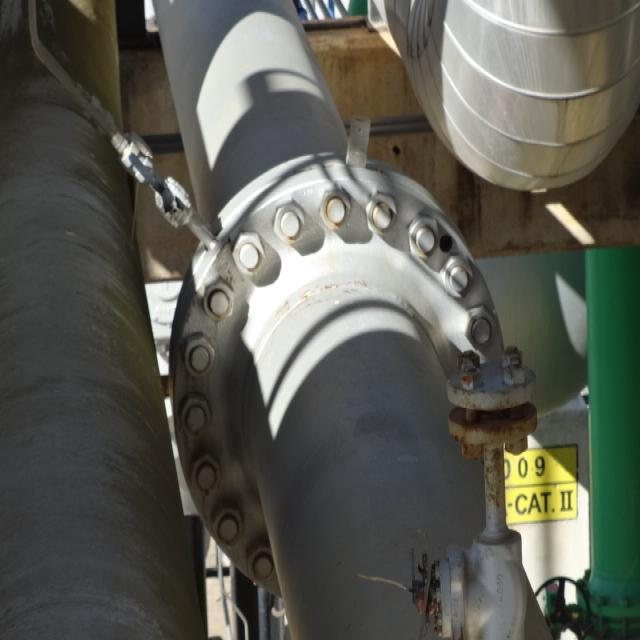gas: (155, 2, 522, 626), (1, 78, 196, 640)
